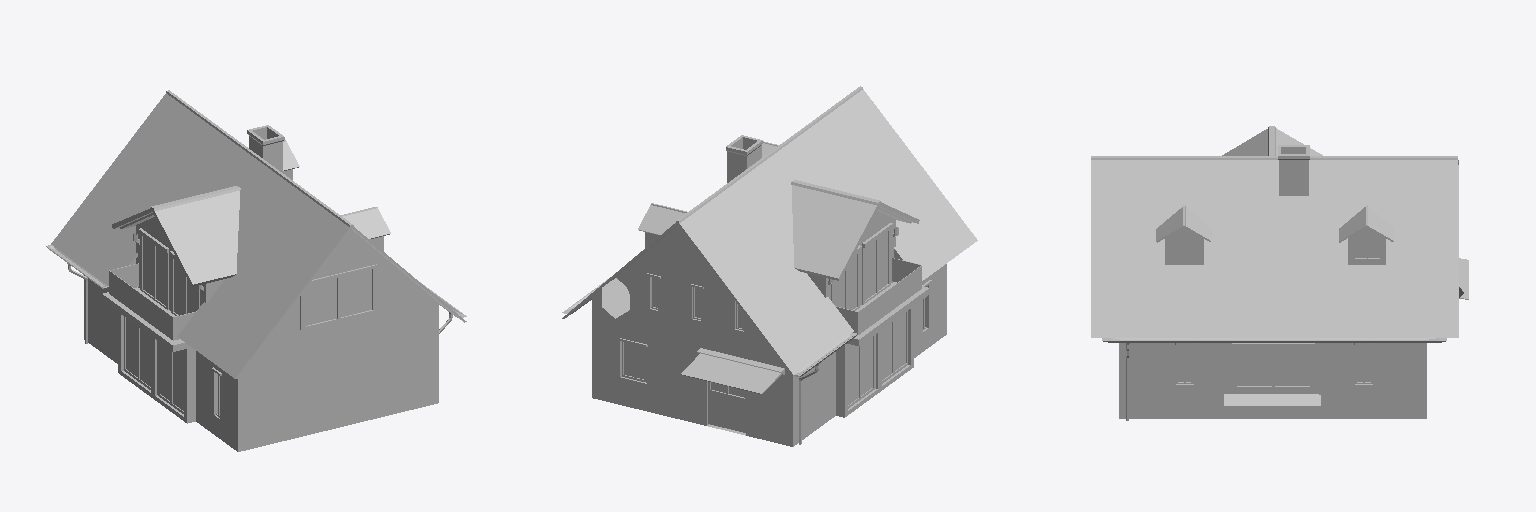
File: TheWhiteHouse.obj
The picture shows the model from 3 angles: view 1: azimuth 30°, elevation 25°; view 2: azimuth 150°, elevation 25°; view 3: azimuth 270°, elevation 25°; orthographic projection.
Parts seen in each view (by area): view 1: City_building_036; view 2: City_building_036; view 3: City_building_036.
Part boxes in pixels (x1,y1,x2,y2): City_building_036: (46,90,466,451); City_building_036: (562,86,977,446); City_building_036: (1091,126,1468,420).
Size of the model in its own units: 8.24 by 7.29 by 11.02.